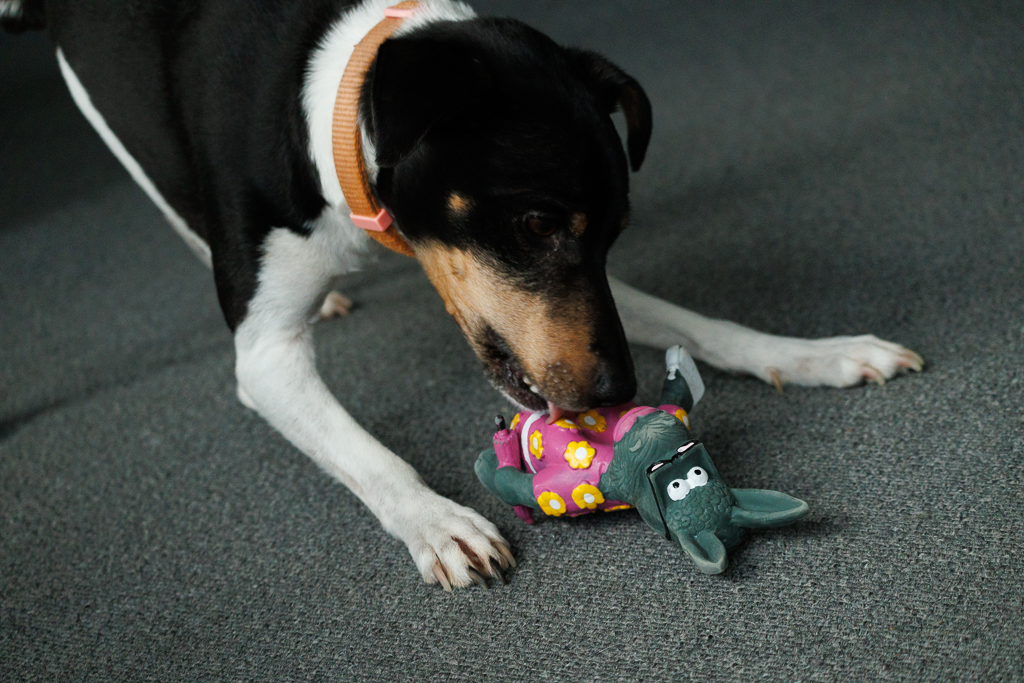Dog: (0, 0, 940, 601)
Humanoid: (470, 336, 819, 587)
